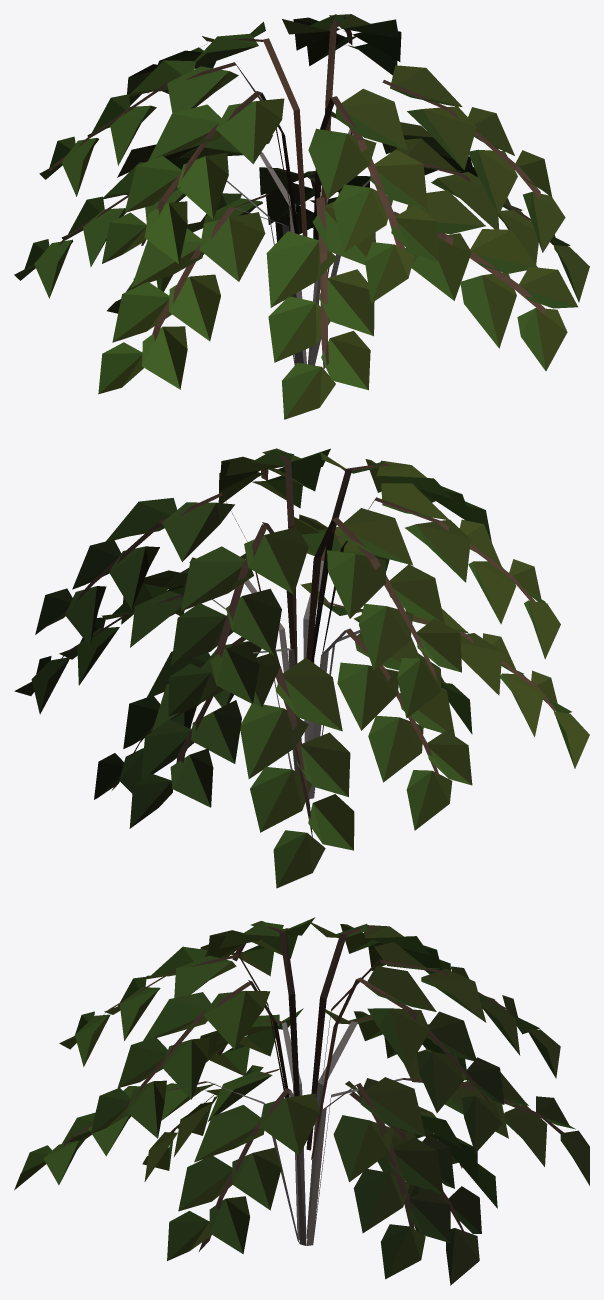
File: Object_Plant_2022-04-28_17-59-50.obj
3 views of the same model, one above another, from view 1: azimuth 30°, elevation 25°; view 2: azimuth 150°, elevation 25°; view 3: azimuth 270°, elevation 25° (orthographic). The views are drawn at different scales.
Parts seen in each view (by area): view 1: Object_Plant_2022-04-28_17-59-50.obj; view 2: Object_Plant_2022-04-28_17-59-50.obj; view 3: Object_Plant_2022-04-28_17-59-50.obj.
Boxes of the visible parts, x1,y1,x2,y2 form: Object_Plant_2022-04-28_17-59-50.obj: [14, 14, 589, 419]; Object_Plant_2022-04-28_17-59-50.obj: [14, 448, 589, 888]; Object_Plant_2022-04-28_17-59-50.obj: [14, 917, 589, 1285].
Bounding box in the file's own units: 226 × 143 × 256.
